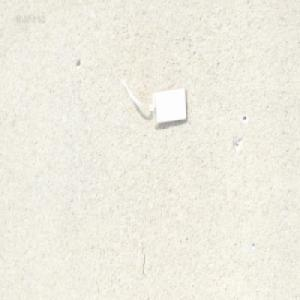LuggageTag: (118, 68, 188, 126)
